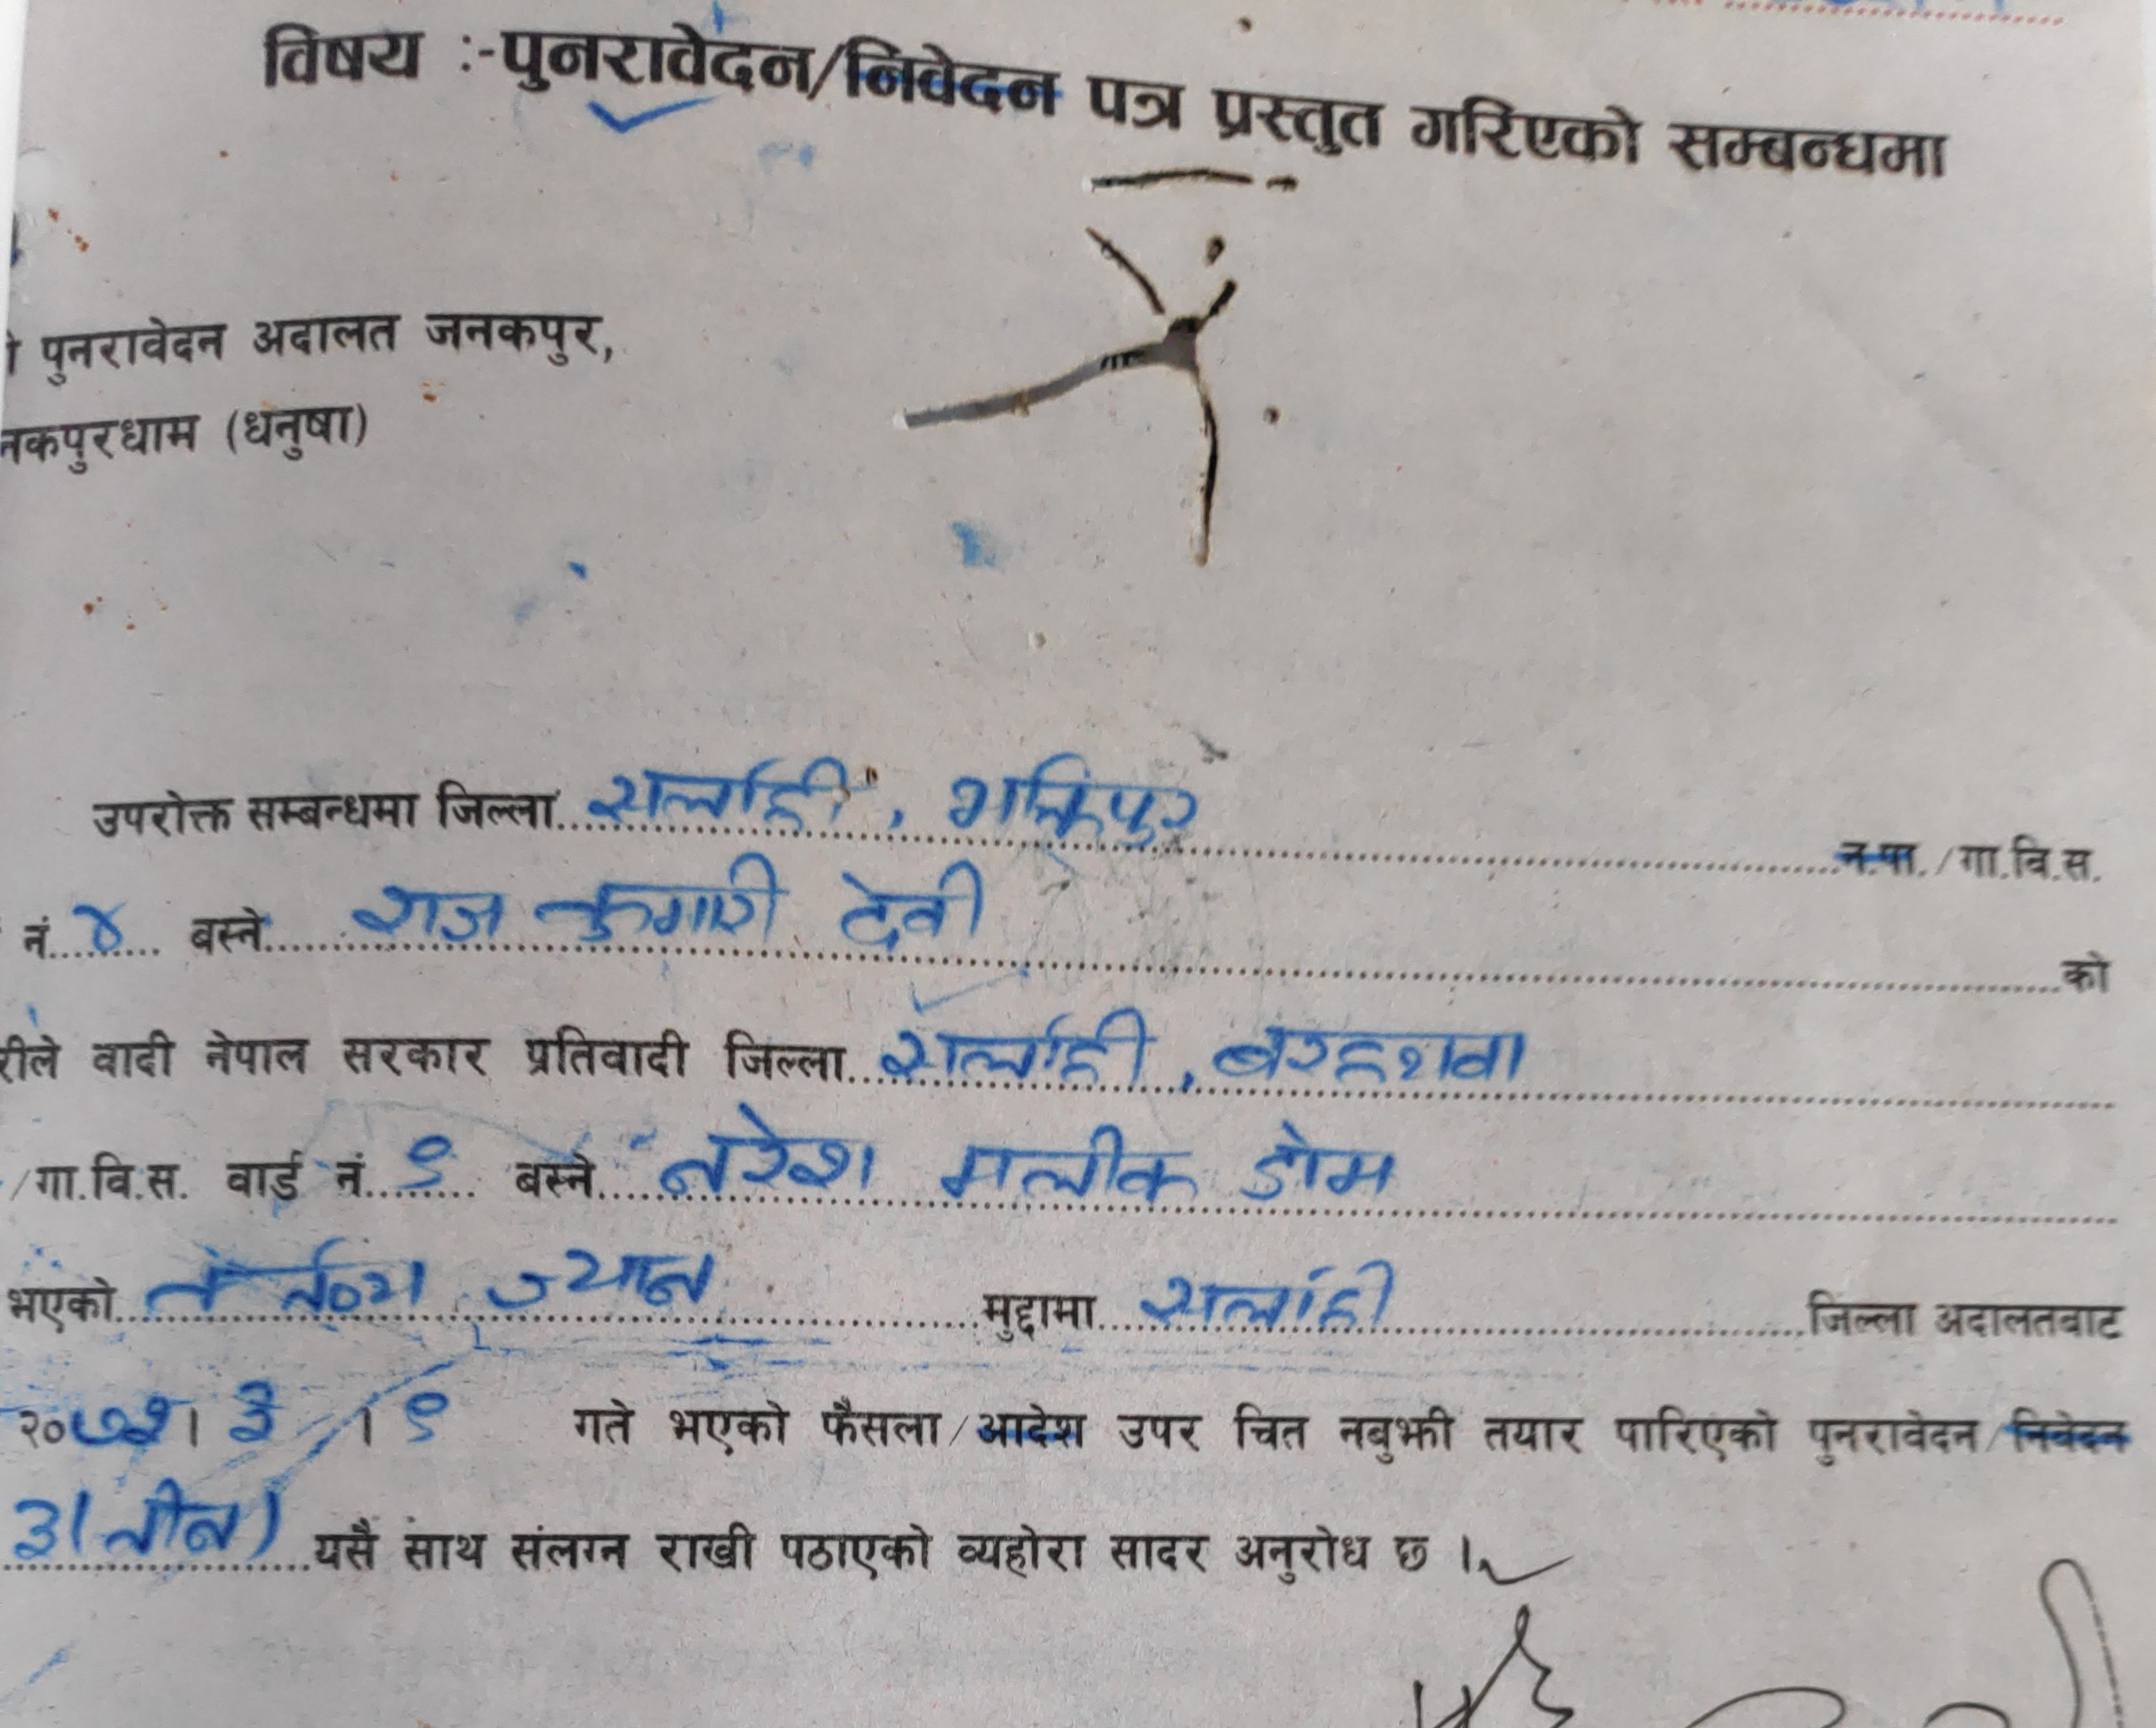text: (933, 748, 1218, 864), (927, 1113, 1208, 1220), (134, 1229, 439, 1326), (532, 848, 790, 963), (1211, 1010, 1543, 1097), (582, 741, 860, 839), (873, 1000, 1165, 1093), (656, 1099, 881, 1201), (1135, 1259, 1400, 1342), (485, 1241, 717, 1326), (829, 848, 1000, 963), (1234, 1114, 1407, 1220), (340, 868, 511, 957), (97, 1474, 243, 1575), (62, 1386, 180, 1458), (381, 1123, 464, 1206), (212, 1381, 294, 1458), (391, 1386, 471, 1460), (65, 887, 143, 957), (9, 1490, 65, 1578)
